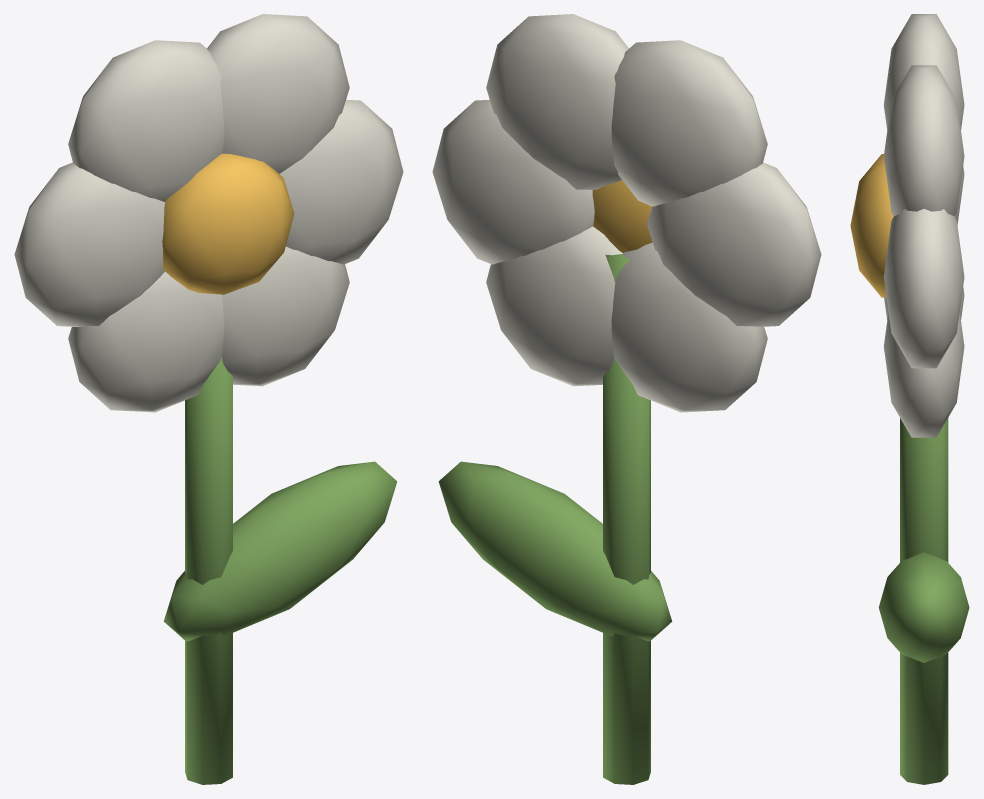
File: garden-flower-white.glb
3 renders of one model, left to right at view 1: azimuth 30°, elevation 25°; view 2: azimuth 150°, elevation 25°; view 3: azimuth 270°, elevation 25°, orthographic. The views are drawn at different scales.
Visible parts, largest first — view 1: garden-flower-white_Petal white, garden-flower-white_leaf, Golden pollen; view 2: garden-flower-white_Petal white, garden-flower-white_leaf, Golden pollen; view 3: garden-flower-white_Petal white, garden-flower-white_leaf, Golden pollen.
Boxes of the visible parts, x1,y1,x2,y2 form: garden-flower-white_Petal white: [14, 14, 403, 412]; garden-flower-white_leaf: [163, 357, 397, 784]; Golden pollen: [162, 153, 294, 294]; garden-flower-white_Petal white: [432, 14, 821, 412]; garden-flower-white_leaf: [438, 254, 672, 784]; Golden pollen: [592, 180, 652, 252]; garden-flower-white_Petal white: [883, 14, 964, 437]; garden-flower-white_leaf: [878, 418, 969, 784]; Golden pollen: [850, 154, 893, 297].
Bounding box in the file's own units: 0.4207 × 0.7989 × 0.118.
